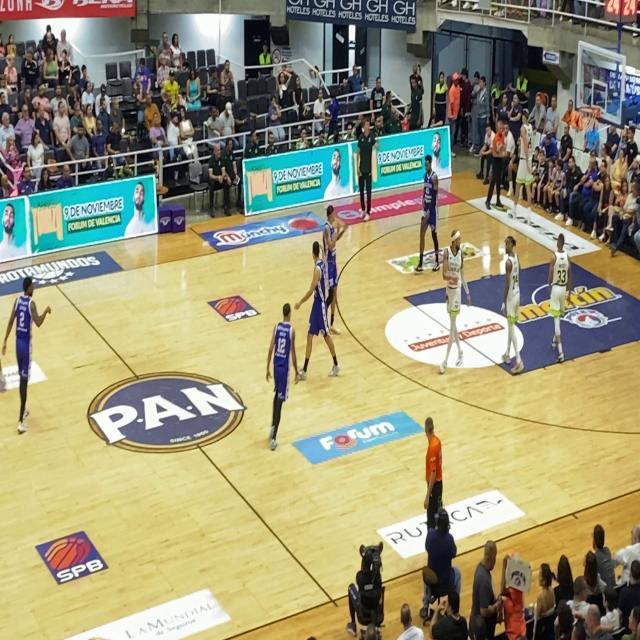team1: (545, 229, 574, 383)
team2: (4, 269, 50, 429), (302, 236, 339, 401), (258, 298, 296, 453), (420, 148, 446, 265)
ubasket: (580, 100, 598, 136)
